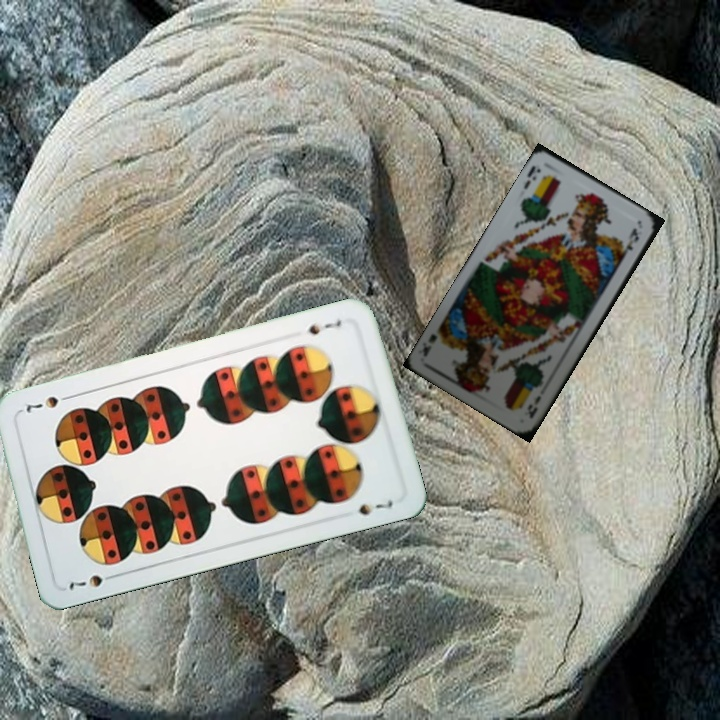EK: (519, 161, 544, 191), (523, 391, 543, 421)
S7: (65, 570, 121, 592), (303, 316, 344, 338)
